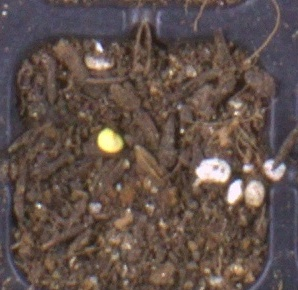chilli seed: (96, 126, 125, 154)
